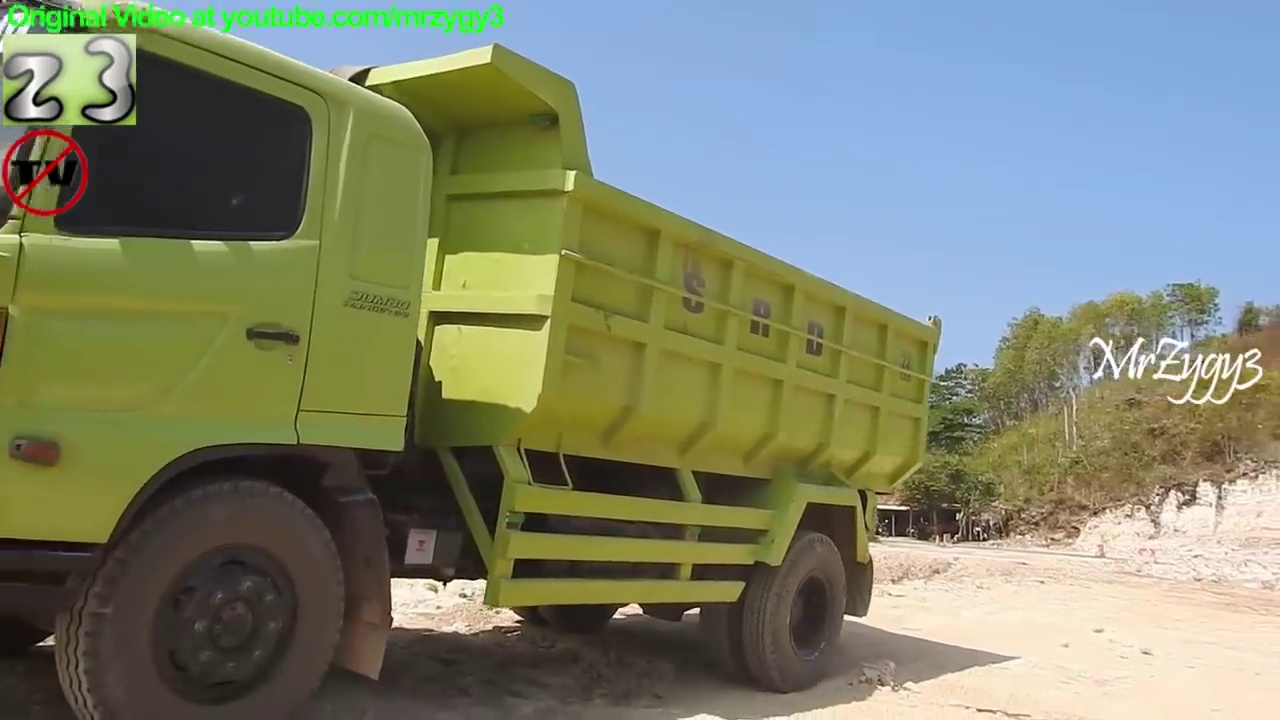truck: (1, 1, 950, 720)
